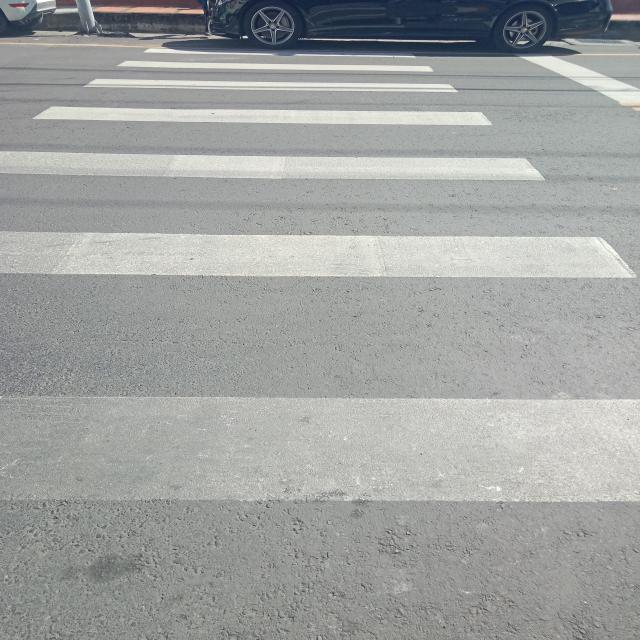zebra crossing: (0, 43, 631, 509)
